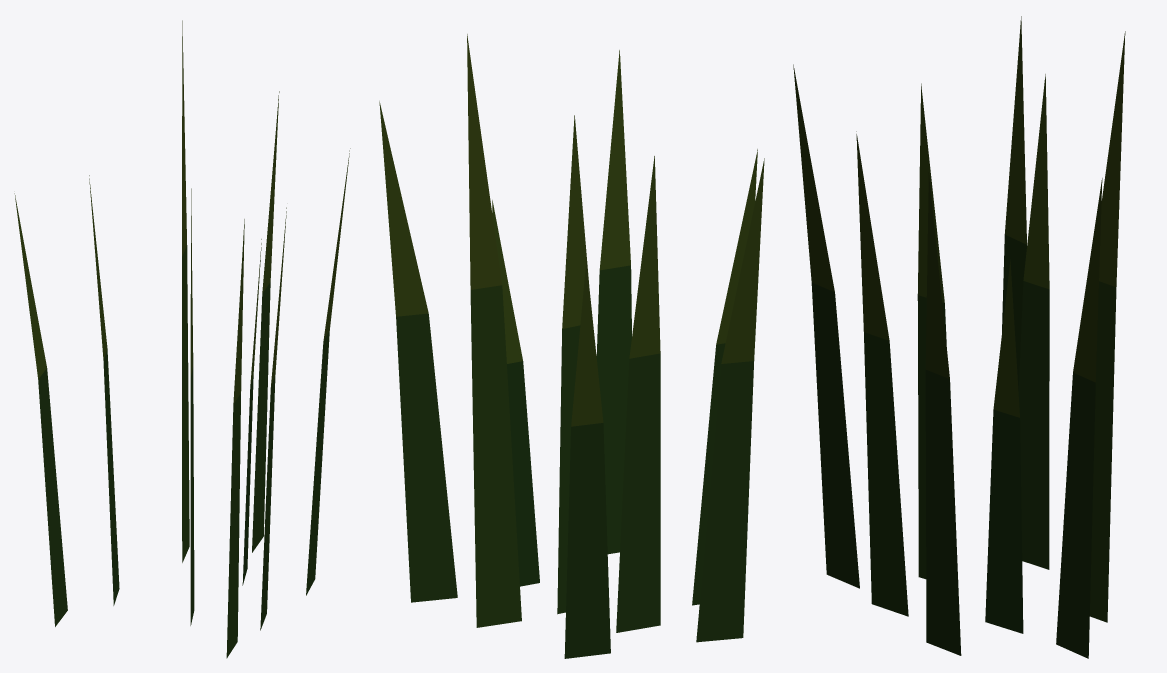
Rendered from grass_tuft.glb.
3 renders of one model, left to right at view 1: azimuth 30°, elevation 25°; view 2: azimuth 150°, elevation 25°; view 3: azimuth 270°, elevation 25°, orthographic. The views are drawn at different scales.
Parts seen in each view (by area): view 1: grass_tuft; view 2: grass_tuft; view 3: grass_tuft.
Boxes of the visible parts, x1,y1,x2,y2 form: grass_tuft: (14,20,350,658); grass_tuft: (379,34,764,658); grass_tuft: (793,16,1125,658).
Bounding box in the file's own units: 0.3715 × 0.621 × 0.3409.
